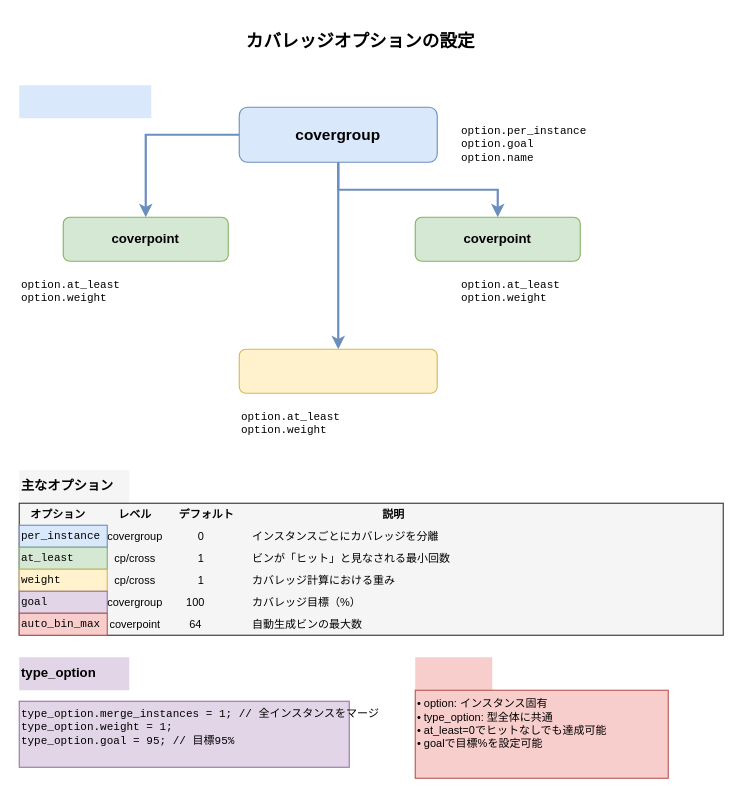
The diagram is 743 pixels wide and 798 high, and some of its shapes have lost their labels. Here are the shapes that lost their labels. From the top down, the centre of each, then its label:
At pixel 85 101: "オプションの階層".
At pixel 337 370: "cross".
At pixel 453 673: "ポイント".
